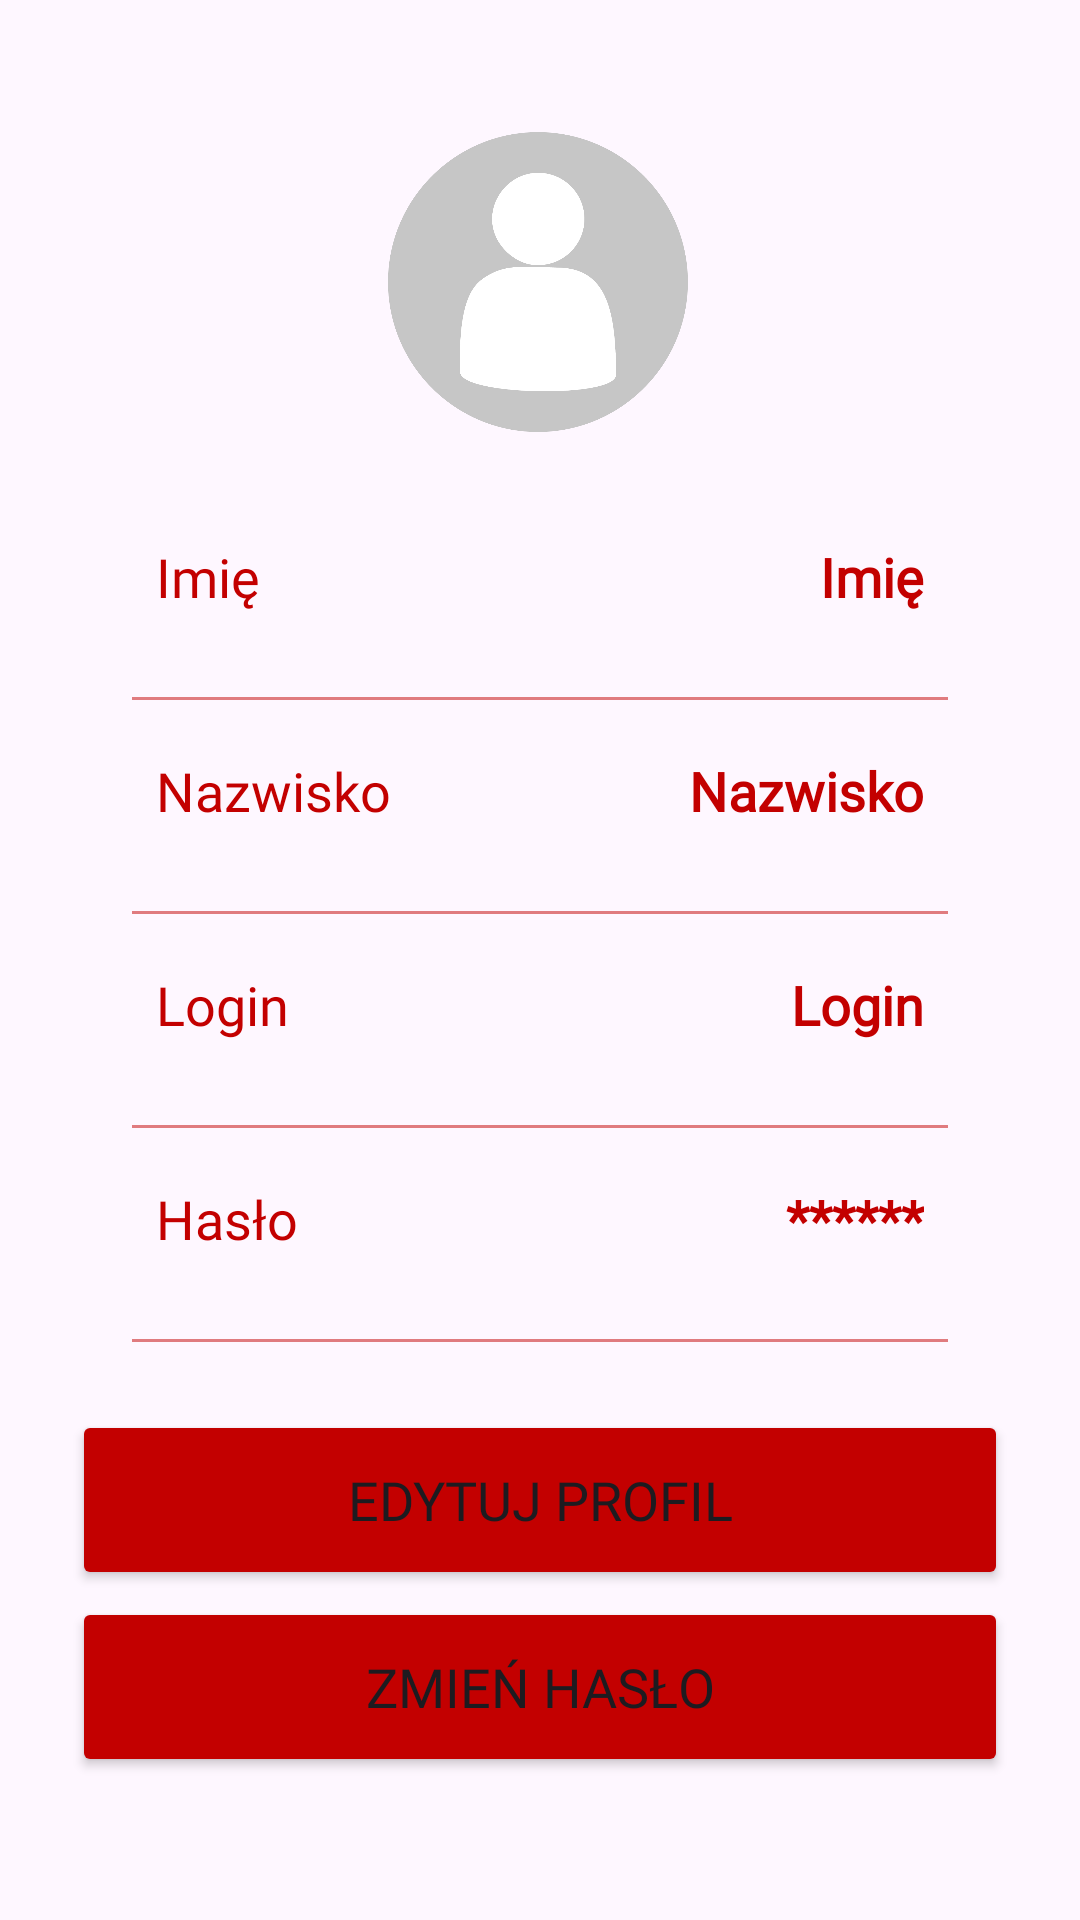

Icons on this 1080 x 1920 Android screen, each with the point to tap as (x,y):
profile: (538,282)
